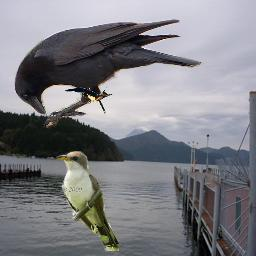Crow: (14, 19, 204, 130)
Cuckoo: (56, 150, 119, 251)
Swallow: (64, 85, 121, 115)
